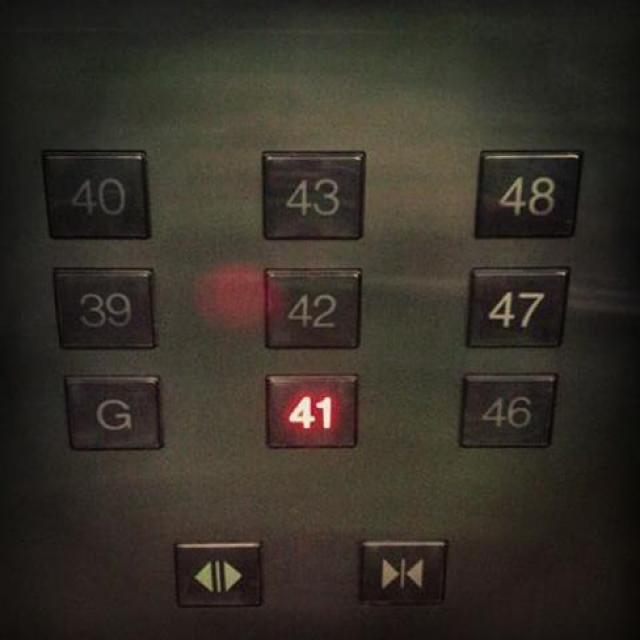39: (49, 261, 158, 348)
40: (37, 145, 152, 240)
41: (261, 370, 359, 450)
42: (260, 263, 362, 348)
43: (257, 145, 369, 240)
46: (455, 368, 560, 449)
47: (462, 262, 572, 346)
48: (471, 145, 585, 239)
G: (59, 370, 167, 450)
close: (354, 535, 449, 605)
open: (169, 536, 265, 607)
